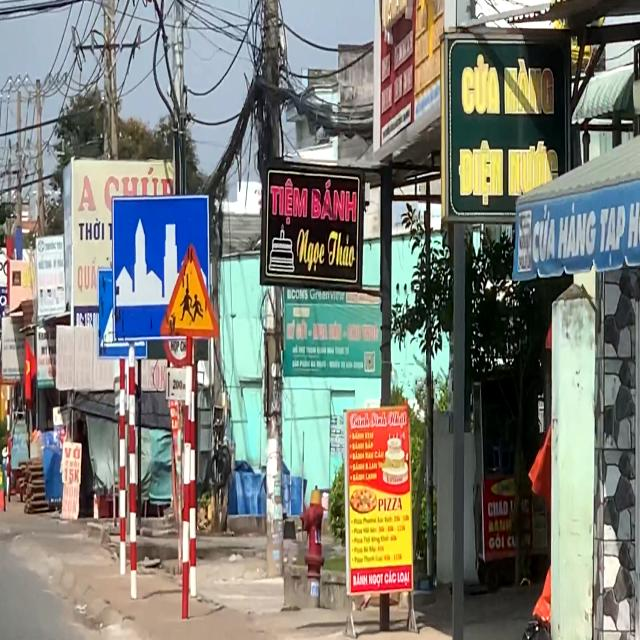W.225: (158, 239, 224, 343)
